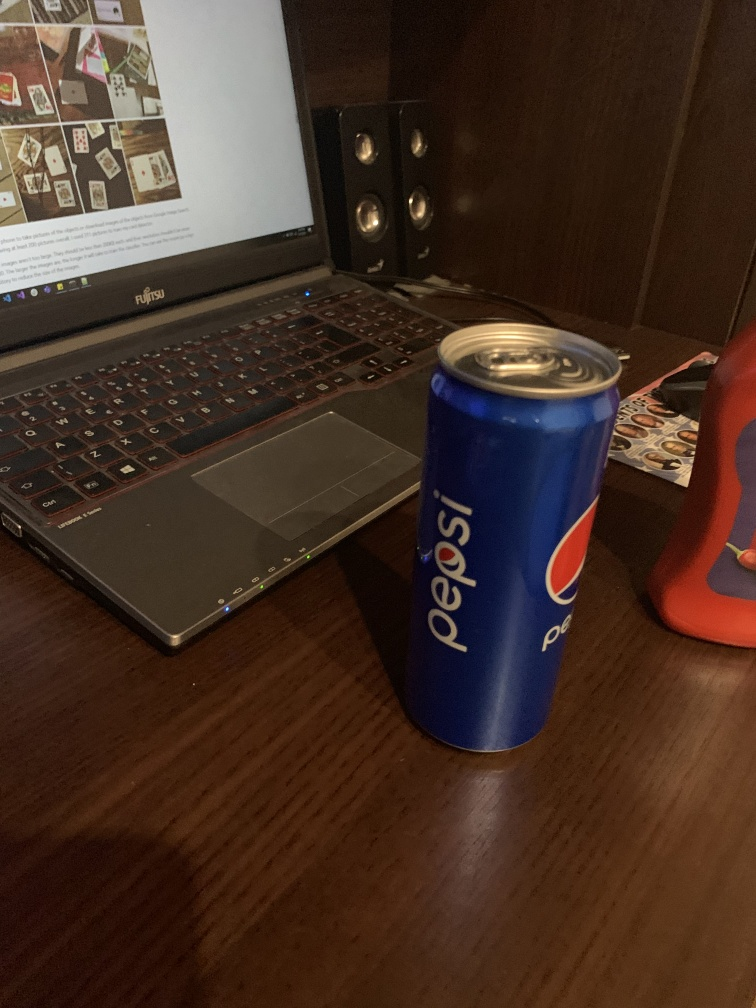pepsi: (399, 317, 625, 768)
